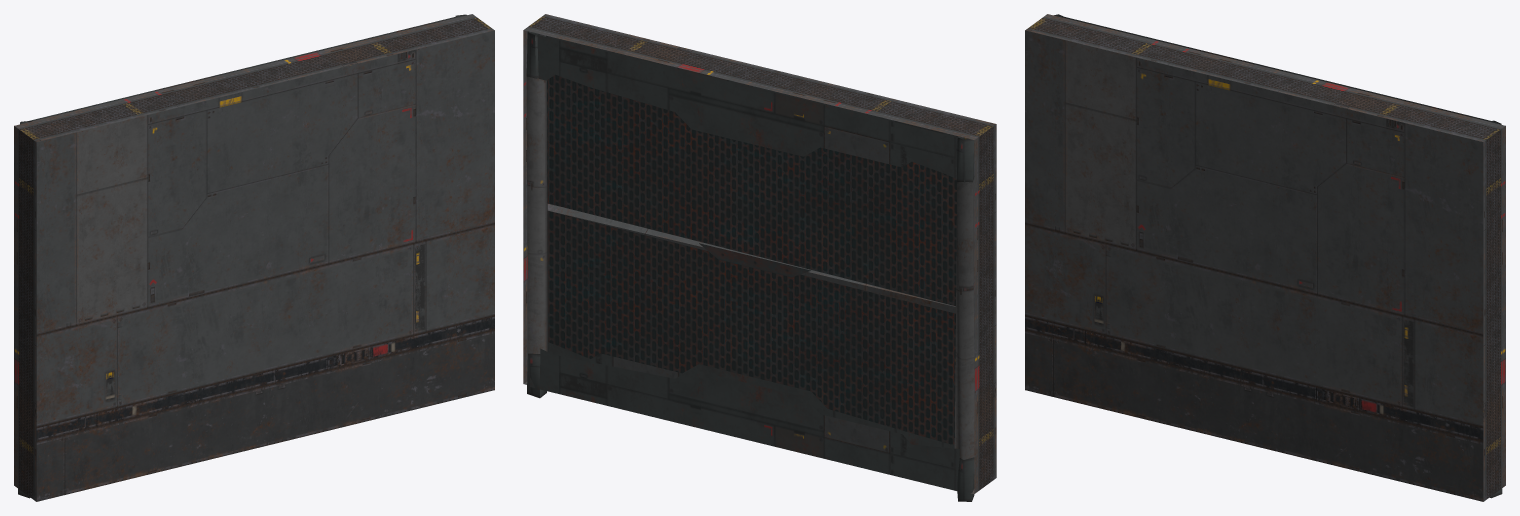
Rendered from ARC0910159.fbx.
3 renders of one model, left to right at view 1: azimuth 30°, elevation 25°; view 2: azimuth 150°, elevation 25°; view 3: azimuth 330°, elevation 25°, orthographic.
Parts seen in each view (by area): view 1: smARC0910159; view 2: smARC0910159; view 3: smARC0910159.
Part boxes in pixels (left/top/right/bottom): smARC0910159: left=14, top=14, right=494, bottom=501; smARC0910159: left=523, top=14, right=996, bottom=501; smARC0910159: left=1025, top=14, right=1505, bottom=501.
Bounding box in the file's own units: 400 × 308 × 38.12.
Materials: 1 (1 with a texture image).
